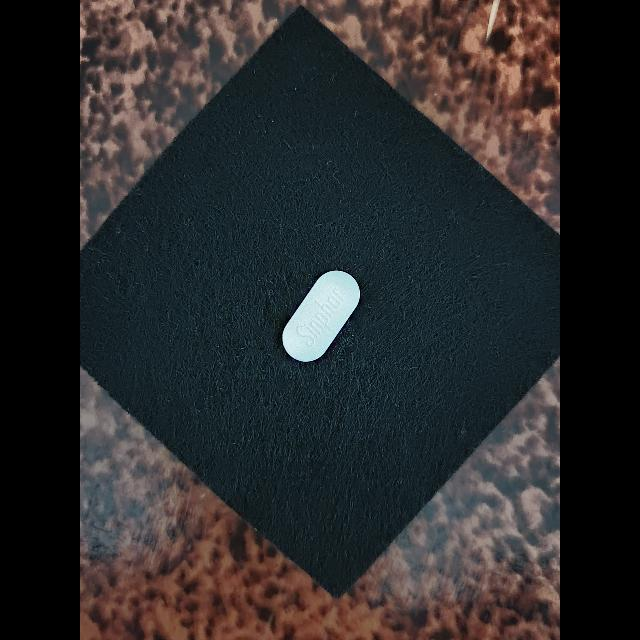Intact Pill: (282, 270, 360, 362)
